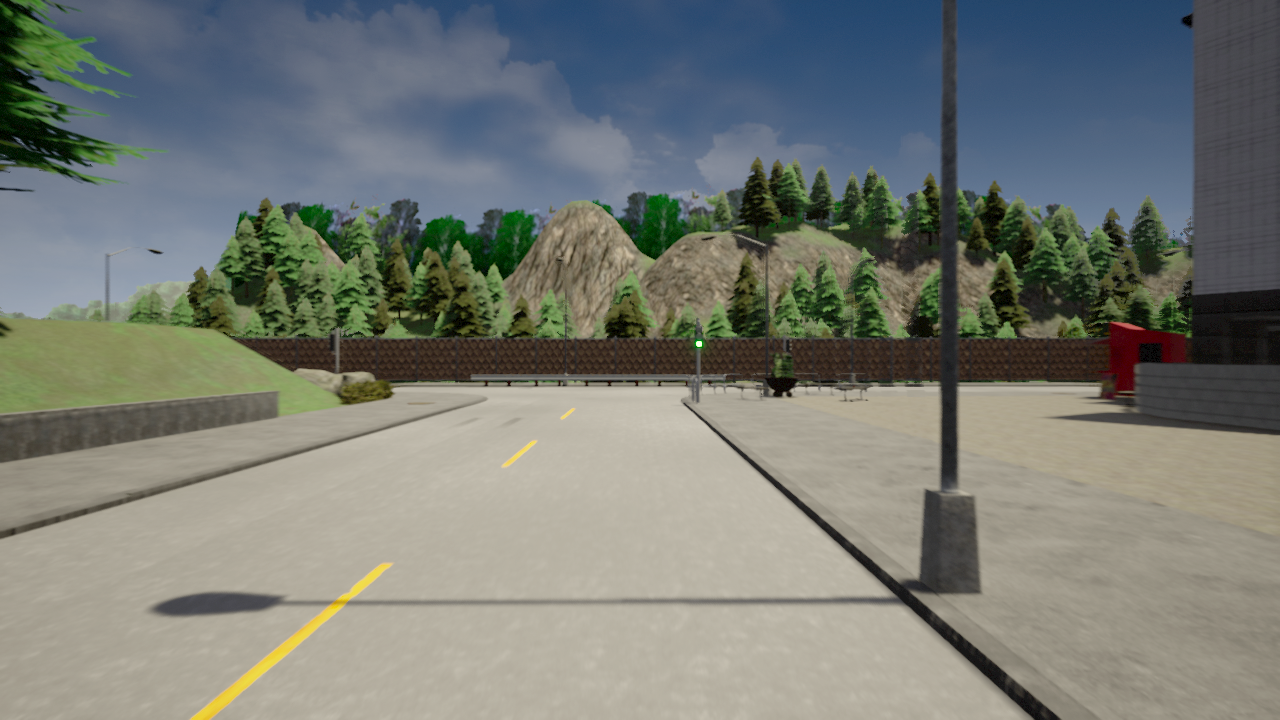green: (694, 324, 704, 348)
